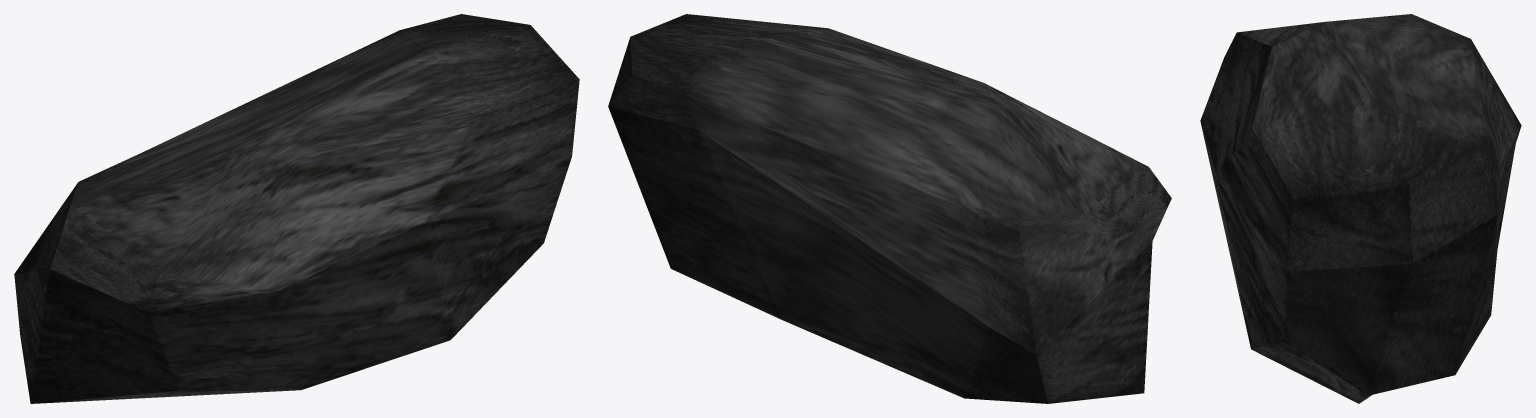
File: Rock.obj
The picture shows the model from 3 angles, left to right: view 1: azimuth 30°, elevation 25°; view 2: azimuth 150°, elevation 25°; view 3: azimuth 270°, elevation 25°; orthographic projection. The views are drawn at different scales.
Parts seen in each view (by area): view 1: Rock_Cube.014; view 2: Rock_Cube.014; view 3: Rock_Cube.014.
Boxes of the visible parts, bbox=[...] form: Rock_Cube.014: bbox=[14, 14, 579, 403]; Rock_Cube.014: bbox=[608, 14, 1171, 403]; Rock_Cube.014: bbox=[1200, 14, 1521, 403].
Size of the model in its own units: 2.03 by 0.989 by 0.9936.
